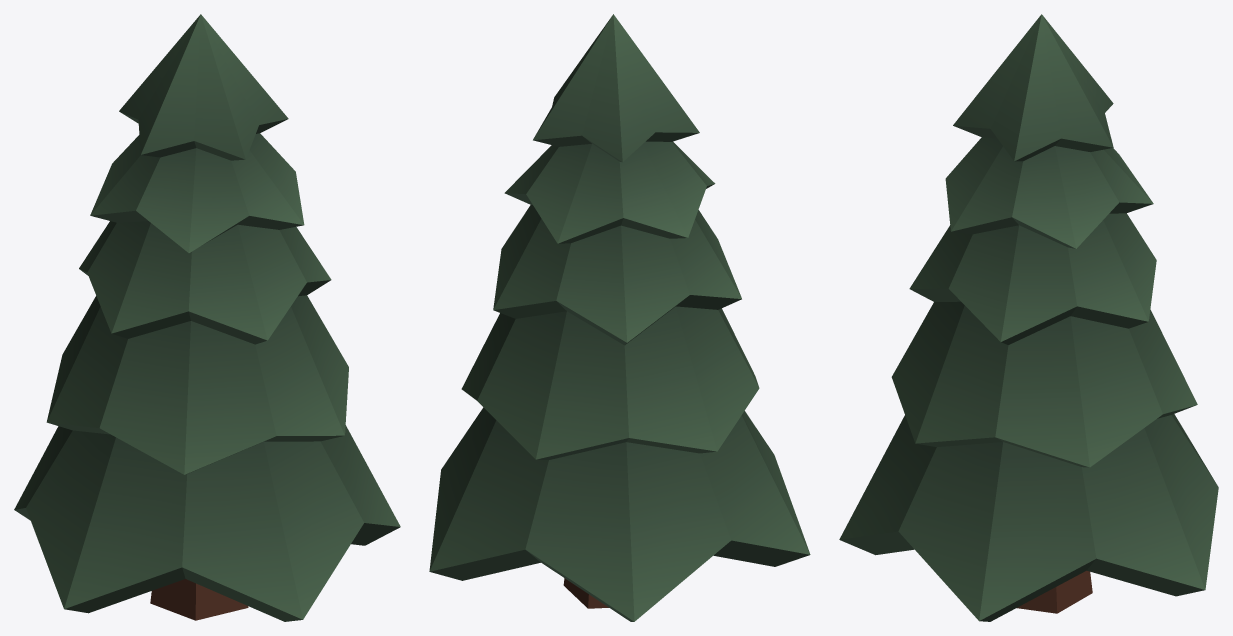
Rendered from treeBigLight.glb.
3 views of the same model, side by side, from view 1: azimuth 30°, elevation 25°; view 2: azimuth 150°, elevation 25°; view 3: azimuth 270°, elevation 25° (orthographic).
Visible parts, largest first — view 1: TreeBigLight; view 2: TreeBigLight; view 3: TreeBigLight.
Boxes of the visible parts, left/top/right/bottom form: TreeBigLight: left=14, top=14, right=400, bottom=621; TreeBigLight: left=429, top=14, right=810, bottom=621; TreeBigLight: left=839, top=14, right=1218, bottom=621.
Size of what is drawn, in the model's own units: 2.61 by 4.33 by 2.57.
Materials: 1 (1 with a texture image).
